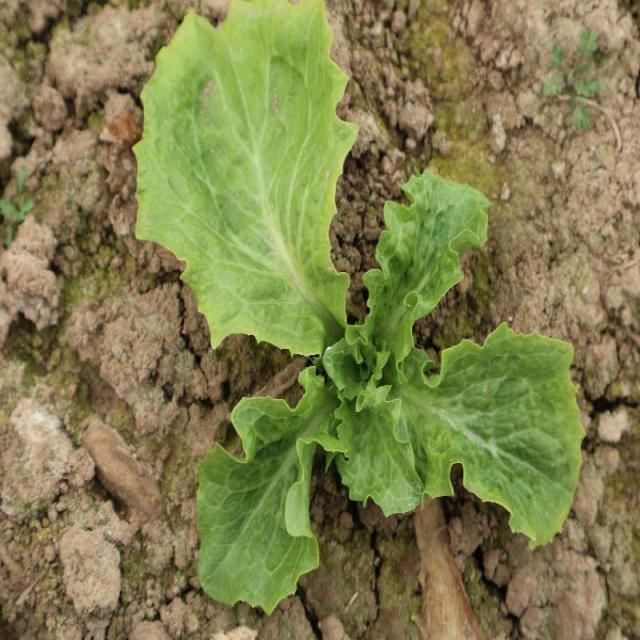crop: (134, 0, 585, 612)
